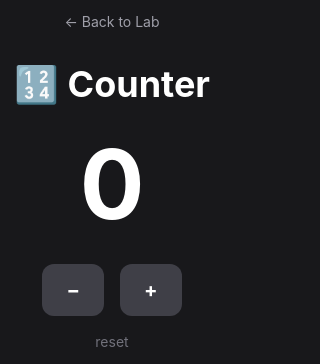
Test: CounterApp › increments the count
Step 1. Click the button with test id "increment" → (151, 290), box [120, 264, 182, 316]
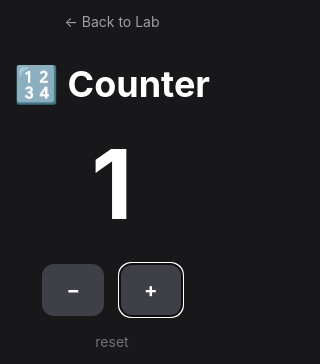
Expected: the text "1" is shown, [91, 126, 133, 242]
